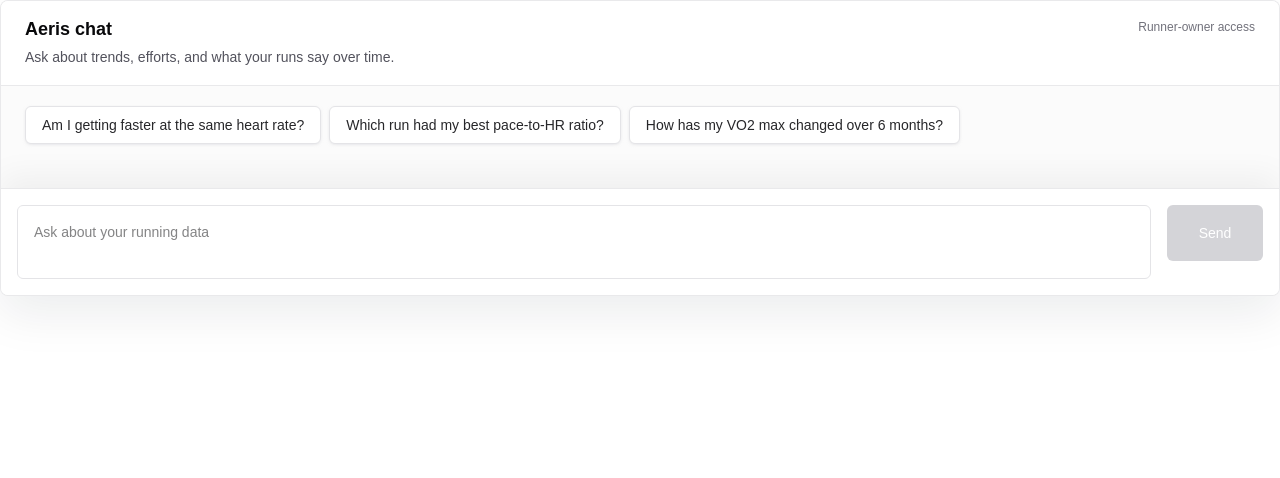
ChatPanel › claims runner-owner access from the URL fragment before loading status
This screenshot has width=1280, height=478.
Expected: the text "Runner-owner access" is shown, [1138, 17, 1255, 37]
Step 1. Type "Owner question" into the text box named "message" → [584, 242], box [17, 205, 1151, 279]
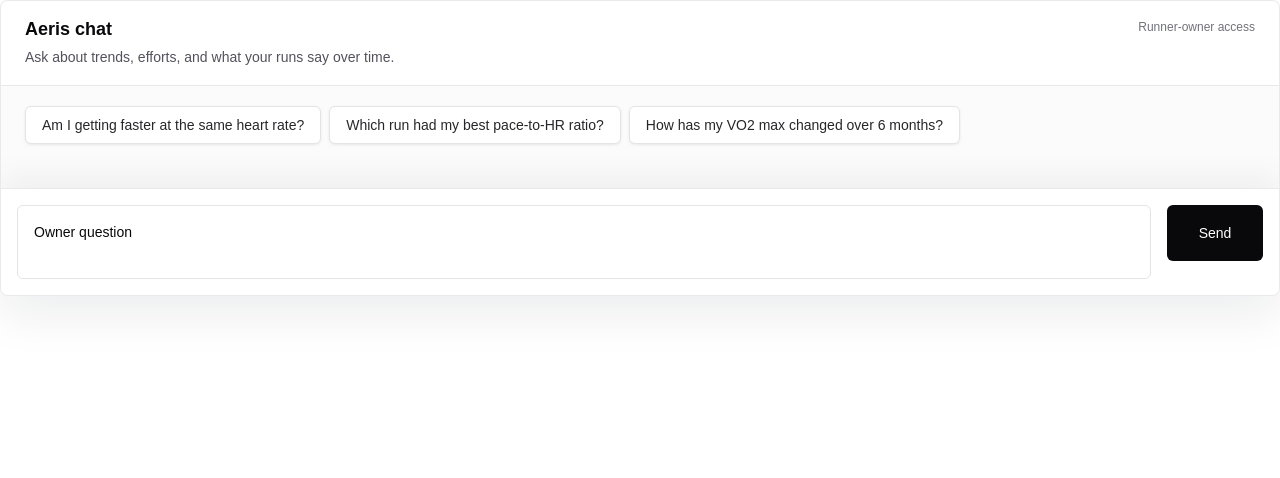
Step 2. Click the button "Send" → [1215, 233], box [1167, 205, 1263, 261]
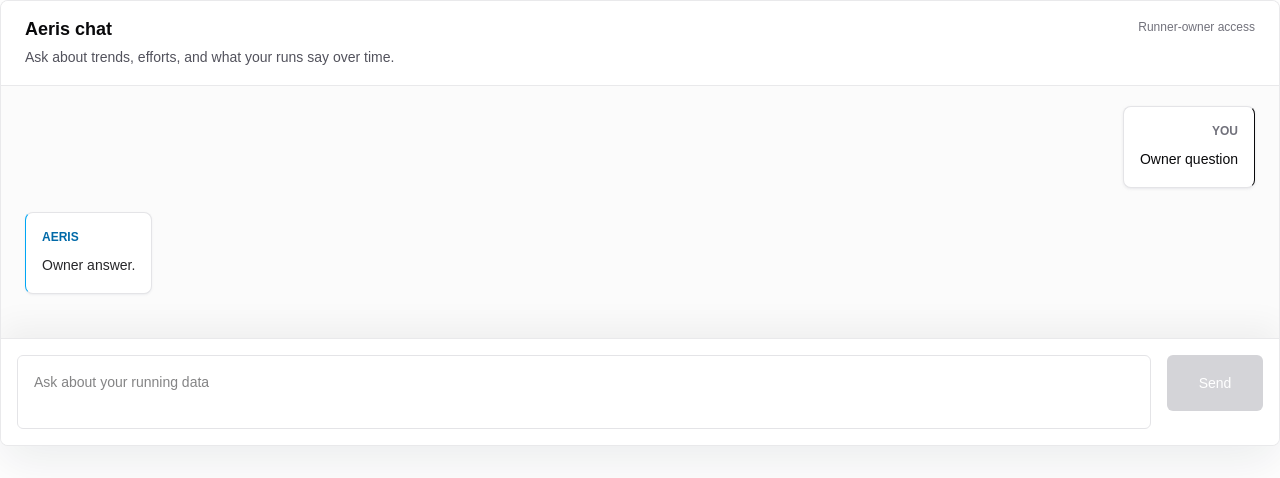
Result: the text "Owner answer." is shown at [42, 253, 135, 277]
